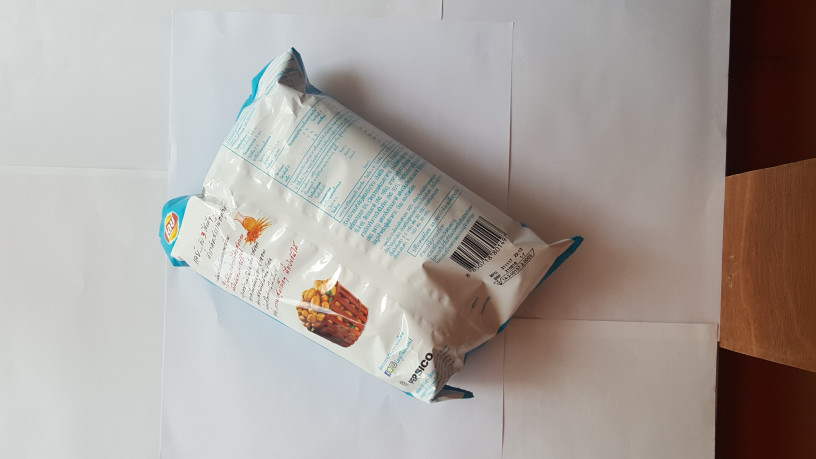lays-onion: (140, 42, 594, 420)
